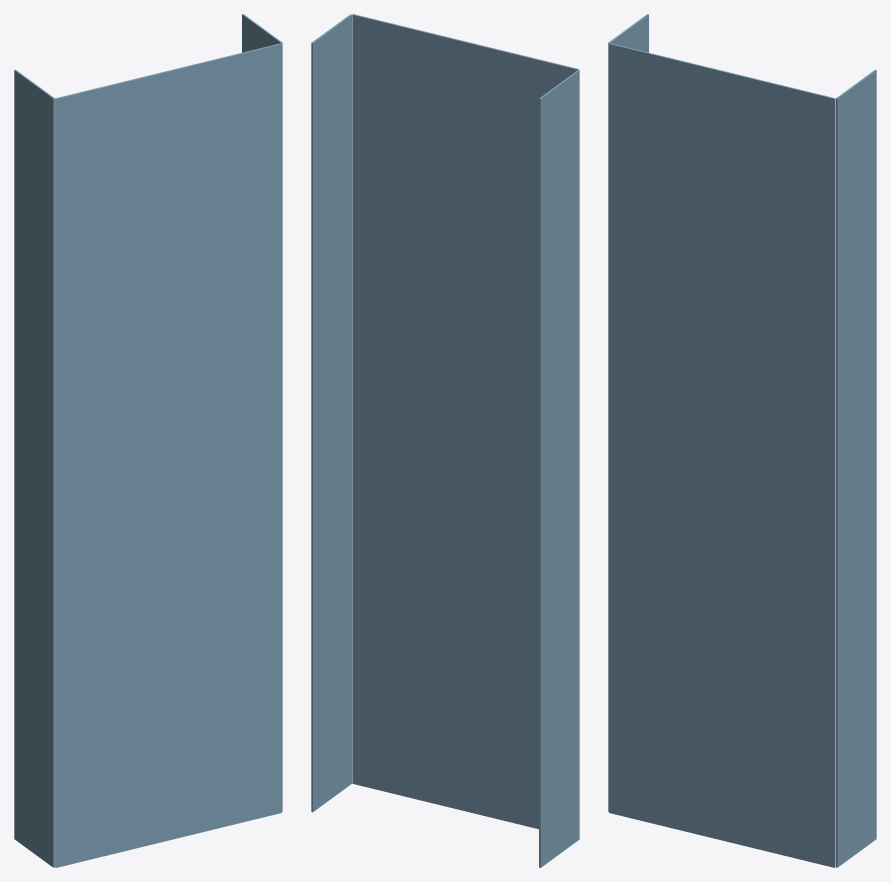
Rendered from pilaster-paint.glb.
3 views of the same model, side by side, from view 1: azimuth 30°, elevation 25°; view 2: azimuth 150°, elevation 25°; view 3: azimuth 330°, elevation 25° (orthographic).
Parts seen in each view (by area): view 1: pilaster-paint; view 2: pilaster-paint; view 3: pilaster-paint.
Boxes of the visible parts, x1,y1,x2,y2 form: pilaster-paint: [14, 14, 282, 867]; pilaster-paint: [311, 14, 579, 867]; pilaster-paint: [608, 14, 876, 867].
Size of the model in its own units: 0.406 by 1.3 by 0.123.
